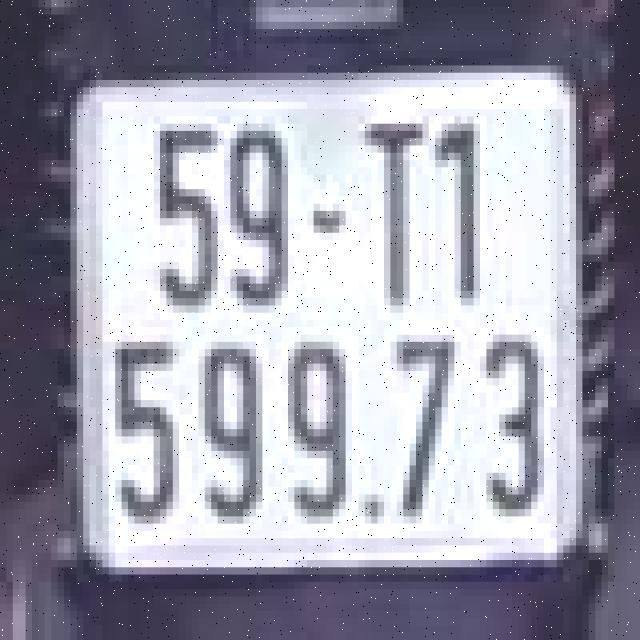1: (429, 98, 493, 324)
3: (470, 323, 548, 512)
5: (96, 331, 186, 534), (141, 113, 224, 316)
7: (381, 327, 464, 524)
9: (186, 328, 275, 546), (275, 324, 365, 527), (224, 116, 301, 313)
T: (348, 109, 426, 313)
